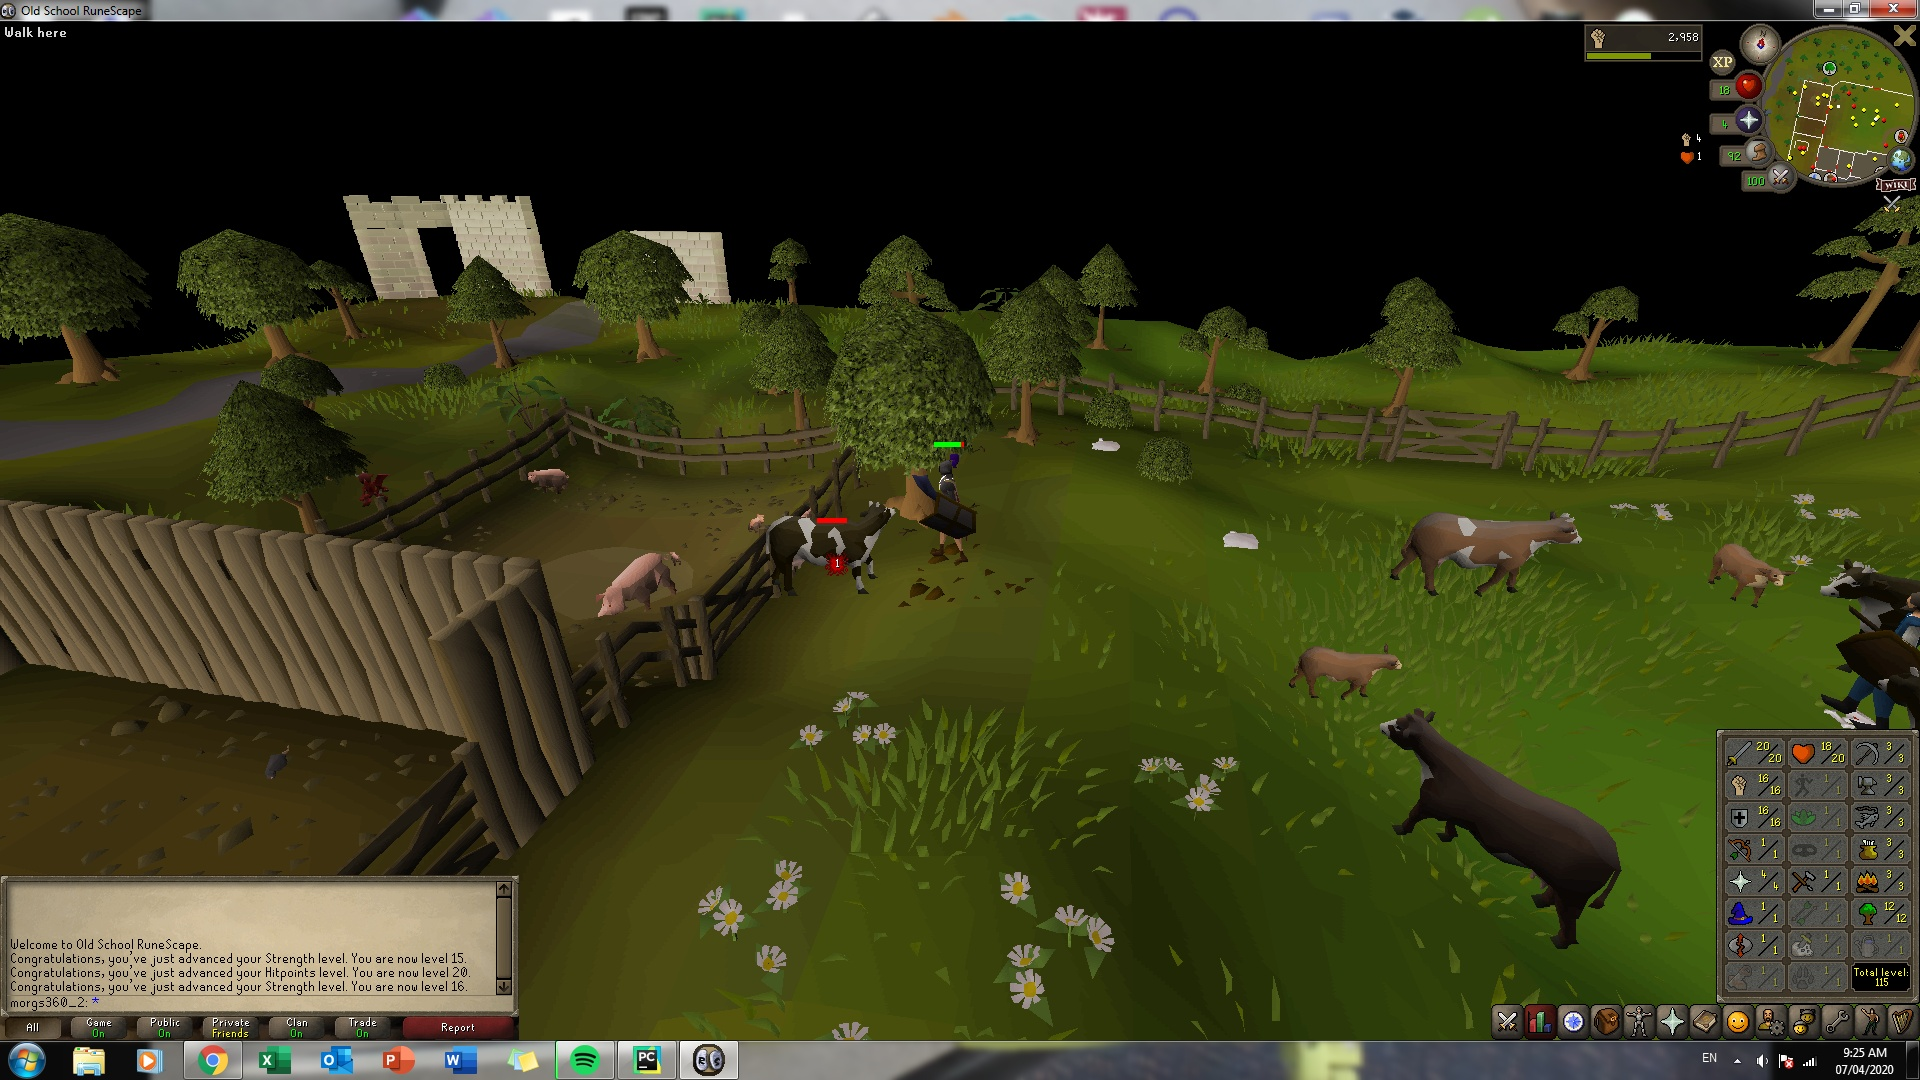cow: (1373, 703, 1629, 955), (1389, 501, 1585, 603), (764, 496, 898, 596), (1816, 545, 1920, 628)
